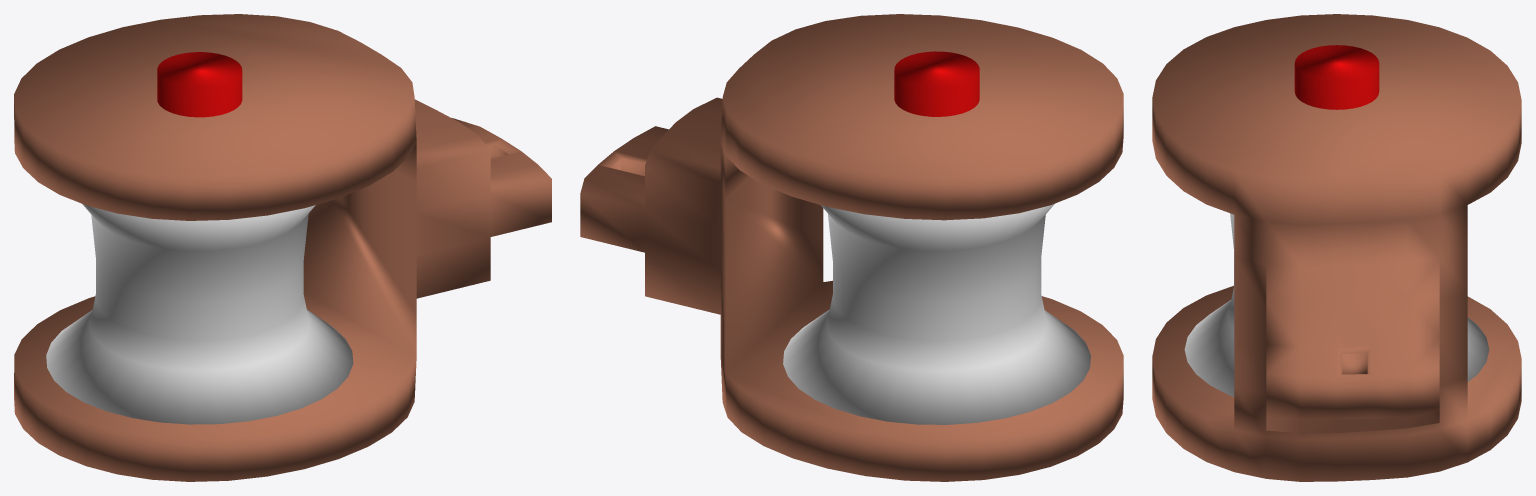
Rendered from Pulley.fbx.
3 views of the same model, side by side, from view 1: azimuth 30°, elevation 25°; view 2: azimuth 150°, elevation 25°; view 3: azimuth 270°, elevation 25° (orthographic).
Visible parts, largest first — view 1: Block, Pulley, Axle; view 2: Block, Pulley, Axle; view 3: Block, Axle, Pulley.
Boxes of the visible parts, x1=… form: Block: x1=14, y1=14, x2=551, y2=481; Pulley: x1=46, y1=204, x2=353, y2=424; Axle: x1=157, y1=52, x2=242, y2=117; Block: x1=580, y1=14, x2=1123, y2=481; Pulley: x1=783, y1=203, x2=1090, y2=424; Axle: x1=894, y1=51, x2=979, y2=116; Block: x1=1152, y1=14, x2=1521, y2=481; Axle: x1=1294, y1=45, x2=1379, y2=109; Pulley: x1=1184, y1=213, x2=1489, y2=396.
Size of the model in its own units: 179 by 131 by 119.
